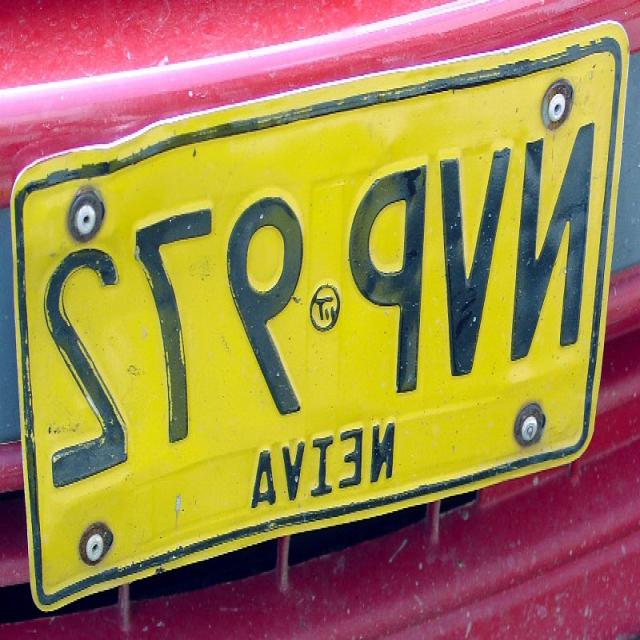placas: (34, 108, 599, 499)
